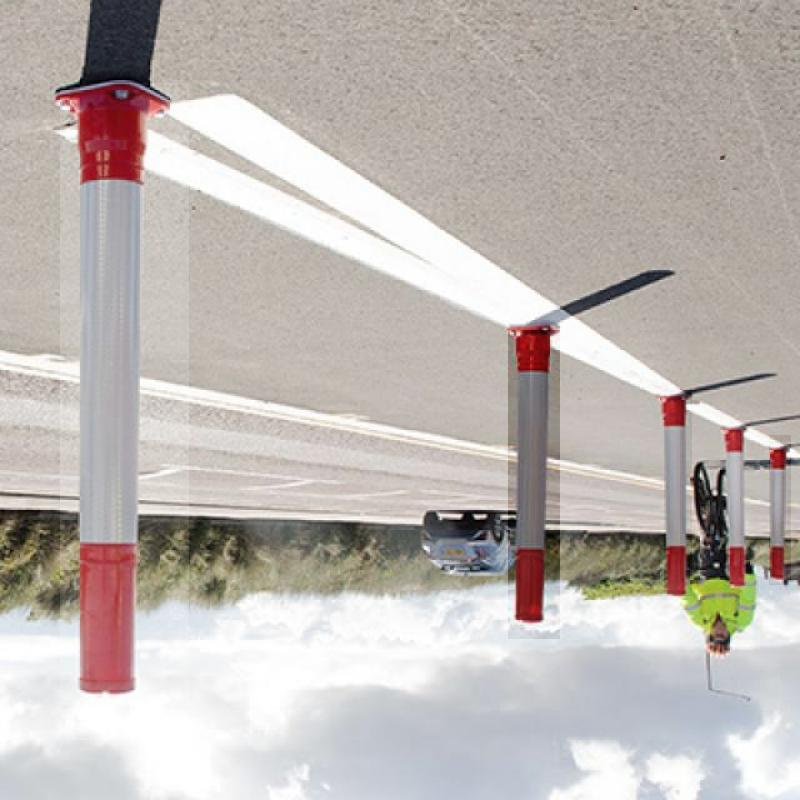pillar: (60, 83, 189, 705), (508, 330, 560, 639), (664, 389, 692, 596), (725, 415, 749, 595), (769, 435, 791, 585)
